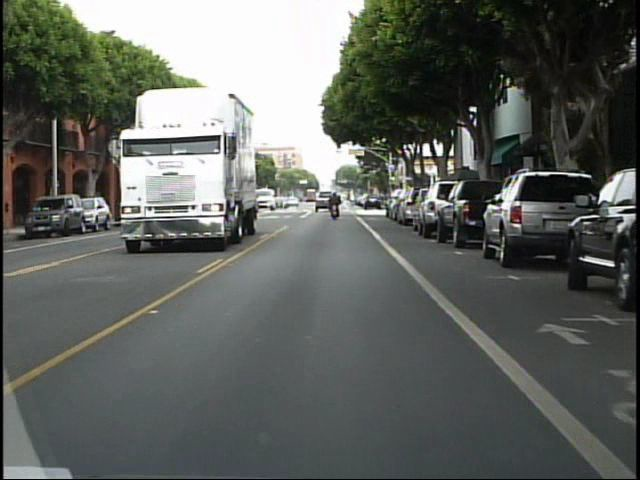person: (328, 192, 341, 223)
